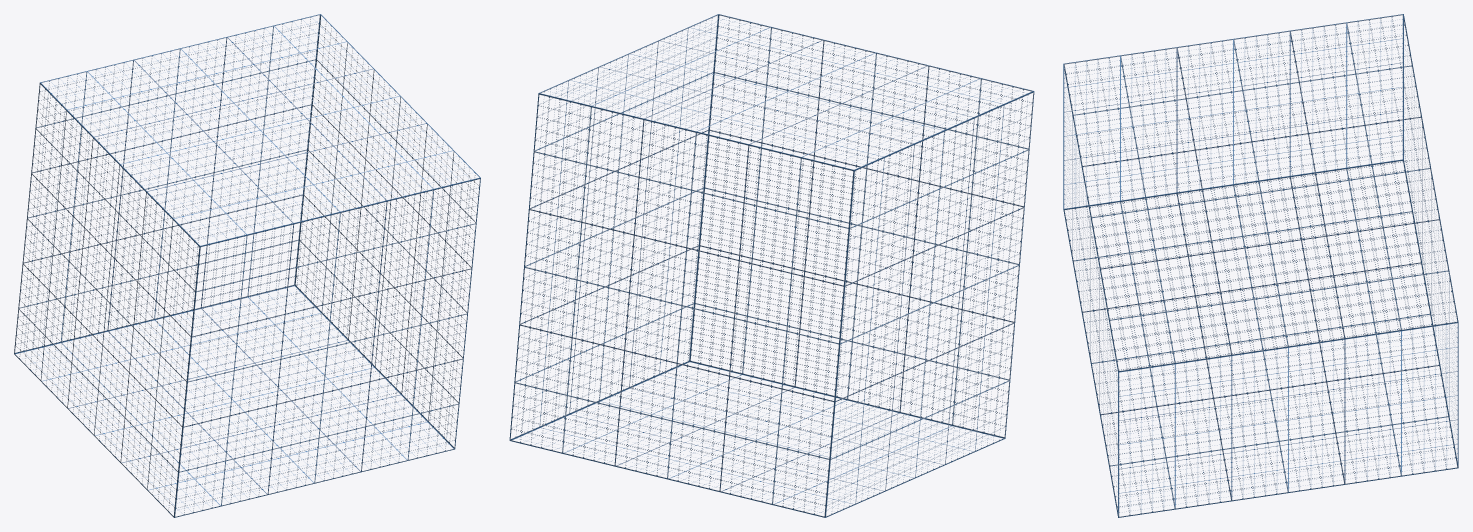
The picture shows the model from 3 angles, left to right: view 1: azimuth 30°, elevation 25°; view 2: azimuth 150°, elevation 25°; view 3: azimuth 270°, elevation 25°; orthographic projection. The views are drawn at different scales.
Visible parts, largest first — view 1: Cube; view 2: Cube; view 3: Cube.
Boxes of the visible parts, x1,y1,x2,y2 form: Cube: (14,14,480,517); Cube: (509,14,1034,517); Cube: (1063,14,1458,517).
Bounding box in the file's own units: 1 × 1.15 × 1.15.
Materials: 1 (1 with a texture image).
